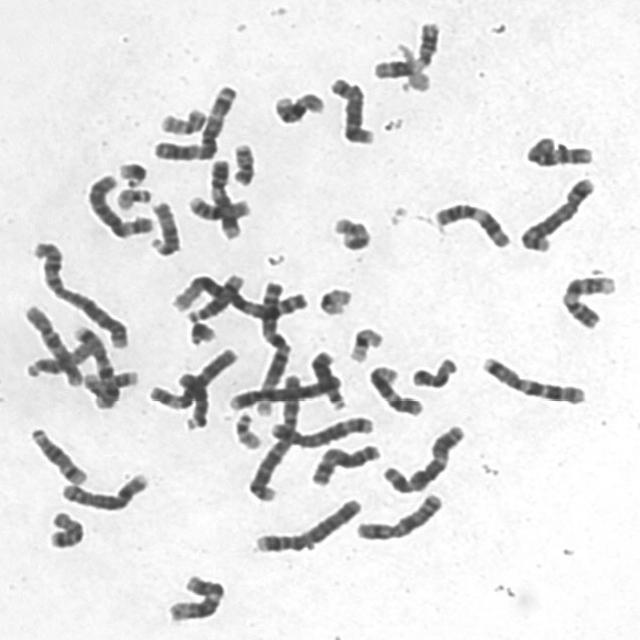A1: (166, 268, 310, 321), (250, 274, 294, 419)
A2: (26, 234, 132, 350), (242, 366, 304, 504)
A3: (148, 78, 240, 163), (376, 418, 468, 495)
B4: (248, 493, 364, 555), (223, 368, 344, 412)
B5: (514, 172, 598, 254), (264, 410, 376, 449)
C10: (18, 298, 86, 388), (519, 130, 596, 168)
C11: (367, 15, 442, 81), (428, 196, 514, 250)
C12: (162, 568, 228, 624), (362, 360, 424, 418)
C6: (143, 341, 240, 411), (81, 167, 157, 239)
C7: (475, 349, 589, 406), (67, 319, 120, 410)
C8: (55, 466, 151, 513), (324, 71, 376, 146)
C9: (556, 270, 620, 330), (204, 153, 244, 241)
D13: (304, 344, 348, 411), (176, 372, 212, 431)
D14: (23, 421, 89, 487), (178, 268, 248, 322)
D15: (19, 336, 94, 378), (144, 195, 184, 257)
E16: (266, 85, 328, 126), (182, 188, 252, 222)
E17: (78, 364, 140, 396), (326, 211, 374, 252)
E18: (406, 351, 460, 390), (41, 505, 86, 550)
F19: (342, 322, 386, 364), (312, 282, 354, 318)
F20: (153, 101, 210, 136), (226, 137, 258, 187)
G21: (112, 154, 149, 188), (182, 313, 218, 345)
G22: (230, 406, 264, 451), (111, 181, 153, 212)
X: (350, 488, 446, 544), (304, 438, 384, 488)
